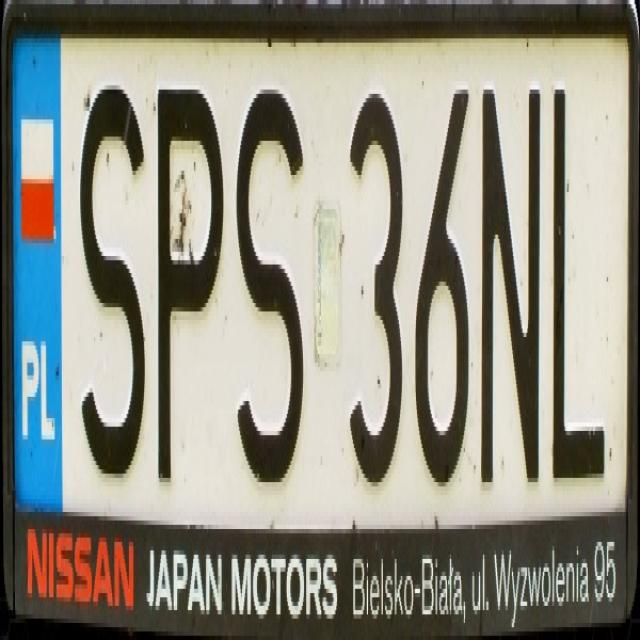pl_license_plate: (12, 34, 627, 499)
